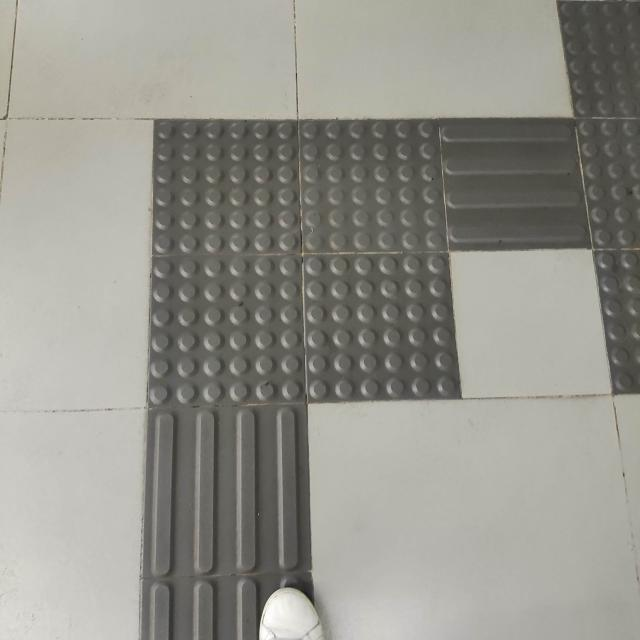kanan: (98, 83, 598, 494)
